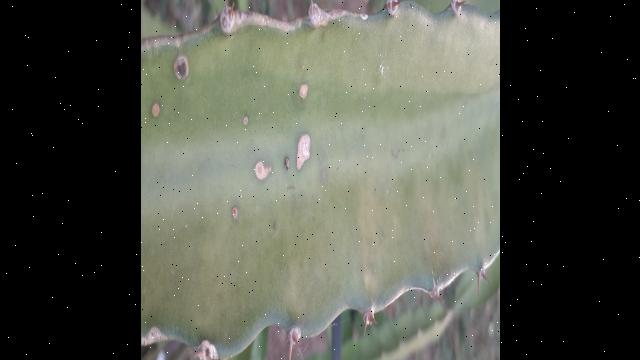stemcanker: (292, 129, 315, 174), (171, 52, 192, 85), (254, 158, 273, 186), (148, 98, 165, 122), (295, 80, 312, 103), (228, 202, 243, 228), (239, 111, 253, 130), (281, 153, 293, 175)
